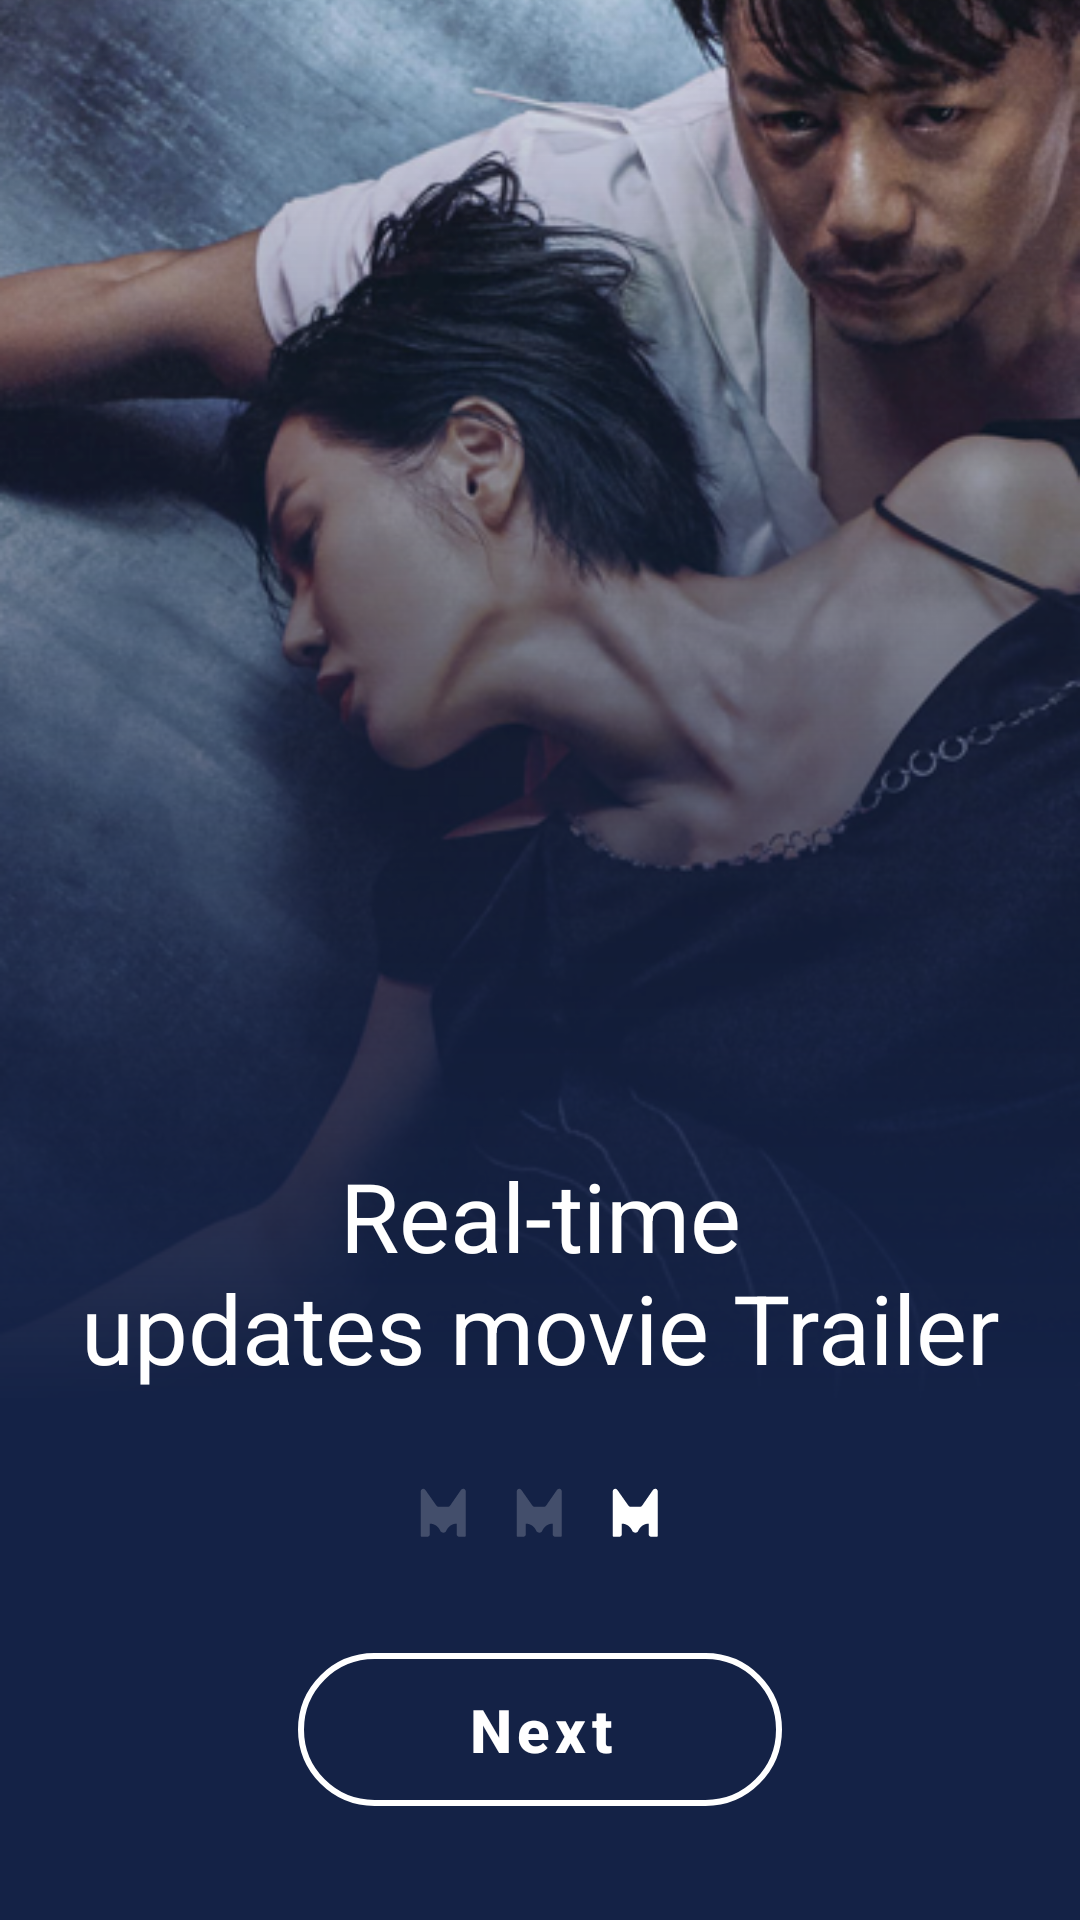

Named icons in this screenshot (1080*1920) and their bounding boxes, rect(x1, y1, x2, y2):
walk through movie: rect(612, 1488, 658, 1537)
walk through movie empty: rect(421, 1489, 466, 1537), rect(517, 1489, 562, 1537)
